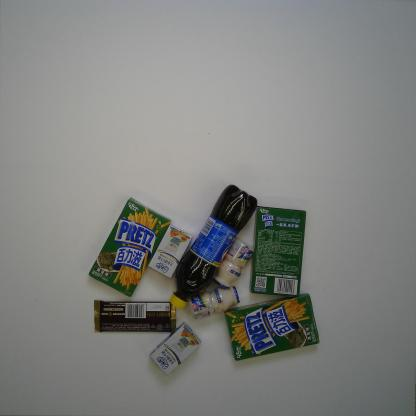Chocolate: (93, 300, 177, 332)
Dessert: (88, 197, 172, 299), (224, 292, 321, 362), (249, 205, 306, 298)
Drink: (168, 183, 259, 311)
Milk: (149, 321, 202, 377), (147, 224, 193, 279), (213, 237, 255, 290), (190, 285, 240, 320)
